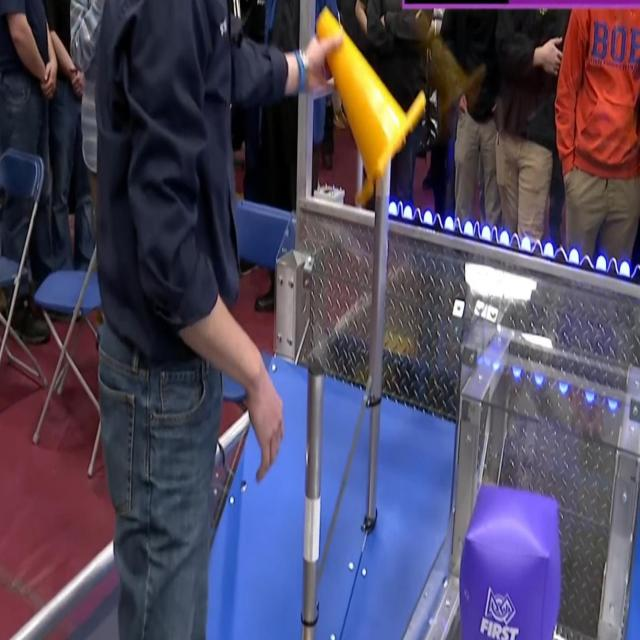frc_cone: (317, 8, 424, 209)
frc_cube: (460, 487, 561, 640)
